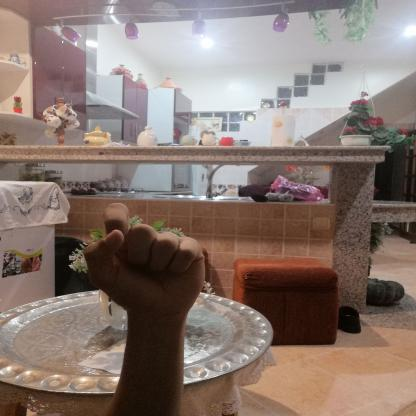FAA: (70, 194, 214, 328)
